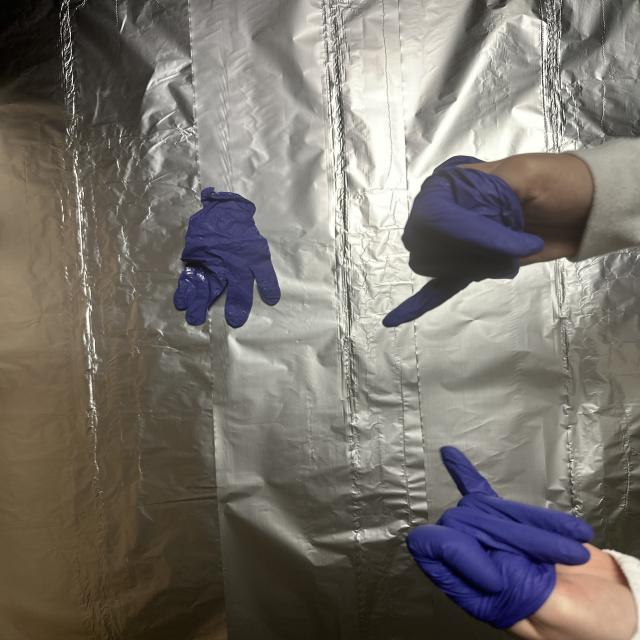glove_partial: (401, 443, 640, 640), (380, 147, 597, 331)
